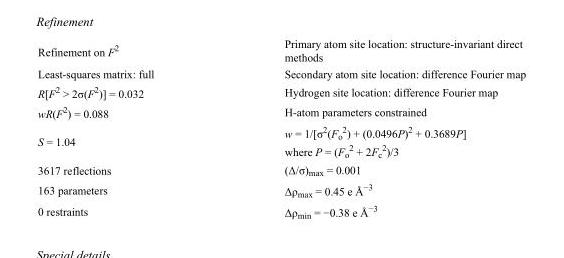table: (37, 36, 525, 219)
table column: (218, 36, 525, 219), (37, 36, 218, 219)
table row: (37, 121, 525, 161), (37, 36, 525, 65), (37, 179, 525, 200), (37, 81, 525, 101), (37, 101, 525, 121), (37, 200, 525, 219), (37, 161, 525, 179), (37, 65, 525, 81)
